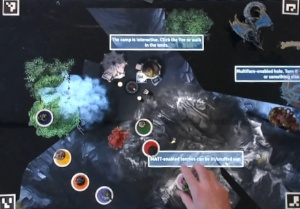green: (133, 116, 155, 136)
orange: (70, 170, 89, 191)
pink: (172, 170, 197, 192)
red: (141, 138, 161, 157)
violet: (93, 183, 114, 206), (33, 107, 53, 126)
yellow: (52, 147, 72, 167)
